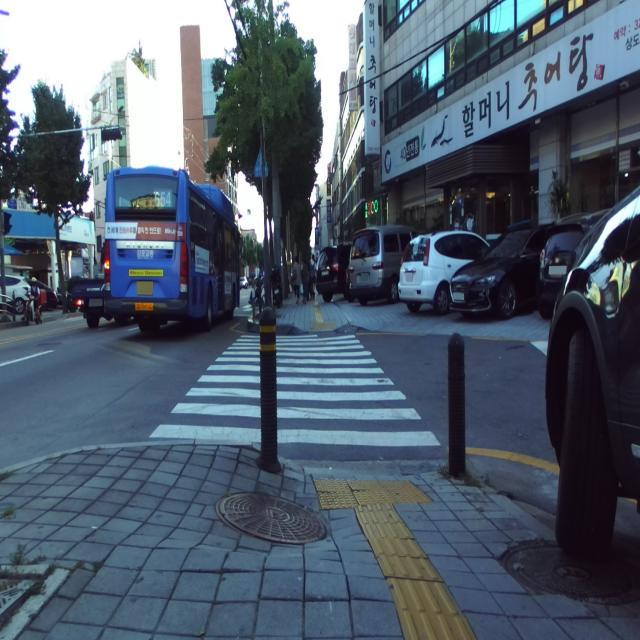횡단보도: (149, 334, 440, 447)
